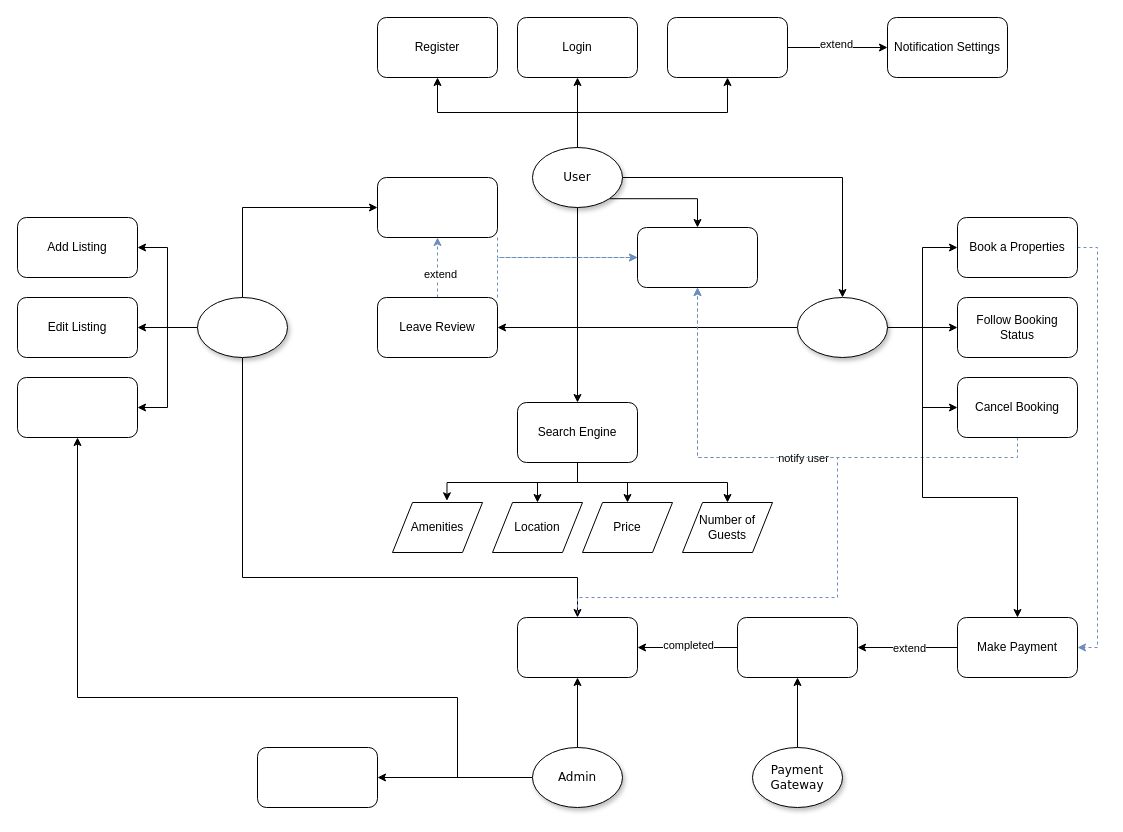
This 1123x832 diagram has some shape labels left out. The centre of each missing label's shape, as x and y in pixels:
"Confirm Booking" belongs at (x=577, y=647).
"Delete Listing" belongs at (x=77, y=407).
"Get Notification" belongs at (x=697, y=257).
"Guest" belongs at (x=843, y=328).
"Host" belongs at (x=243, y=328).
"Monitoring" belongs at (x=317, y=777).
"Process Payment" belongs at (x=797, y=647).
"Reply Review" belongs at (x=437, y=207).
"Set Profile" belongs at (x=727, y=47).
